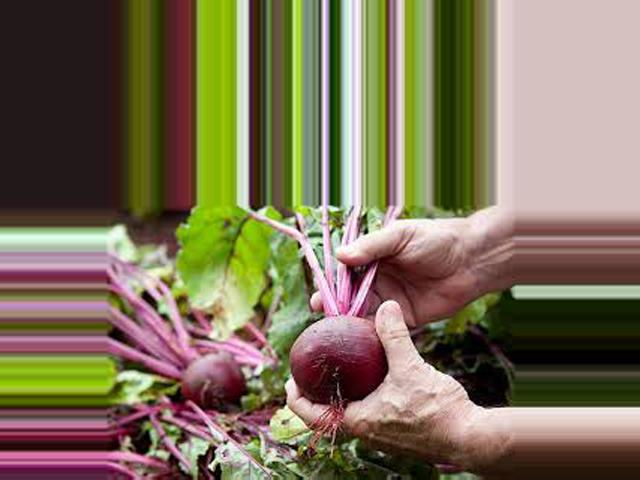beet: (235, 205, 390, 405)
